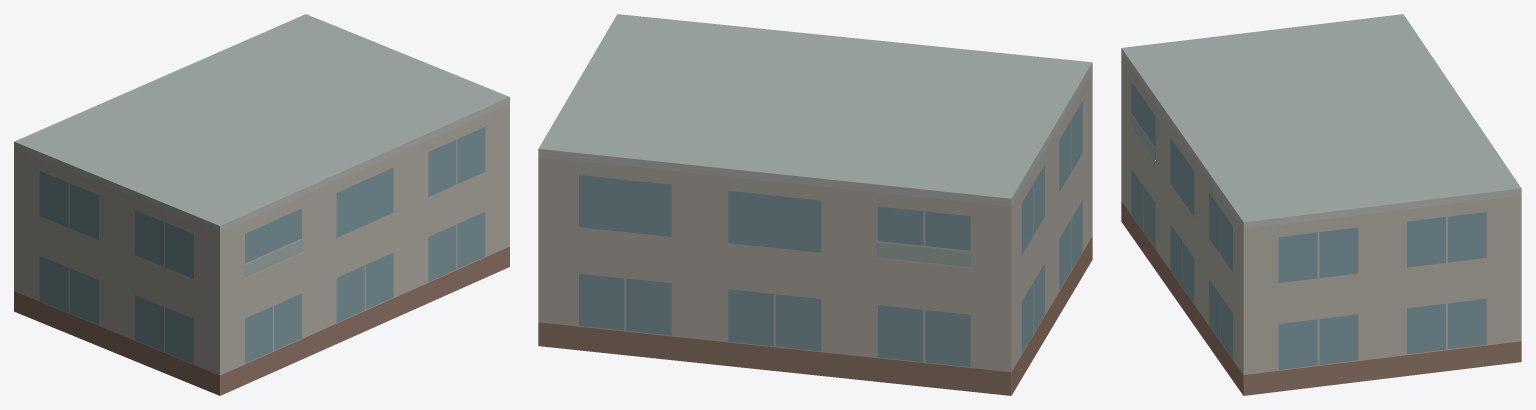
Rendered from survey-upis-32944813.glb.
3 views of the same model, side by side, from view 1: azimuth 30°, elevation 25°; view 2: azimuth 150°, elevation 25°; view 3: azimuth 270°, elevation 25° (orthographic). The views are drawn at different scales.
Visible parts, largest first — view 1: survey-upis-32944813.tmp; view 2: survey-upis-32944813.tmp; view 3: survey-upis-32944813.tmp.
Boxes of the visible parts, x1=… form: survey-upis-32944813.tmp: x1=14, y1=14, x2=509, y2=395; survey-upis-32944813.tmp: x1=538, y1=14, x2=1092, y2=395; survey-upis-32944813.tmp: x1=1121, y1=14, x2=1521, y2=395.
Size of the model in its own units: 15.7 by 6.1 by 12.75.
